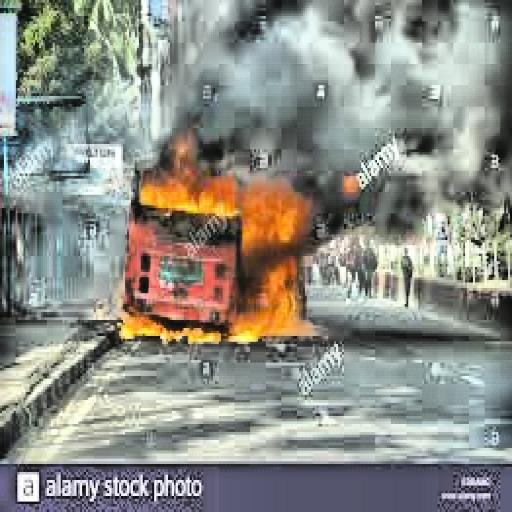fire: (121, 136, 315, 339)
